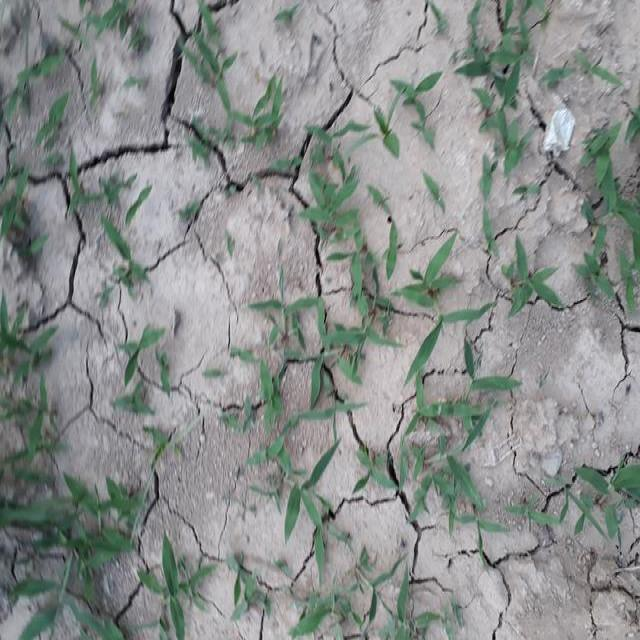weed: (0, 417, 123, 638), (404, 383, 484, 518), (264, 298, 364, 392), (388, 250, 480, 352), (250, 443, 342, 542), (588, 135, 640, 293), (584, 465, 640, 539), (296, 190, 358, 244), (512, 254, 557, 311)
